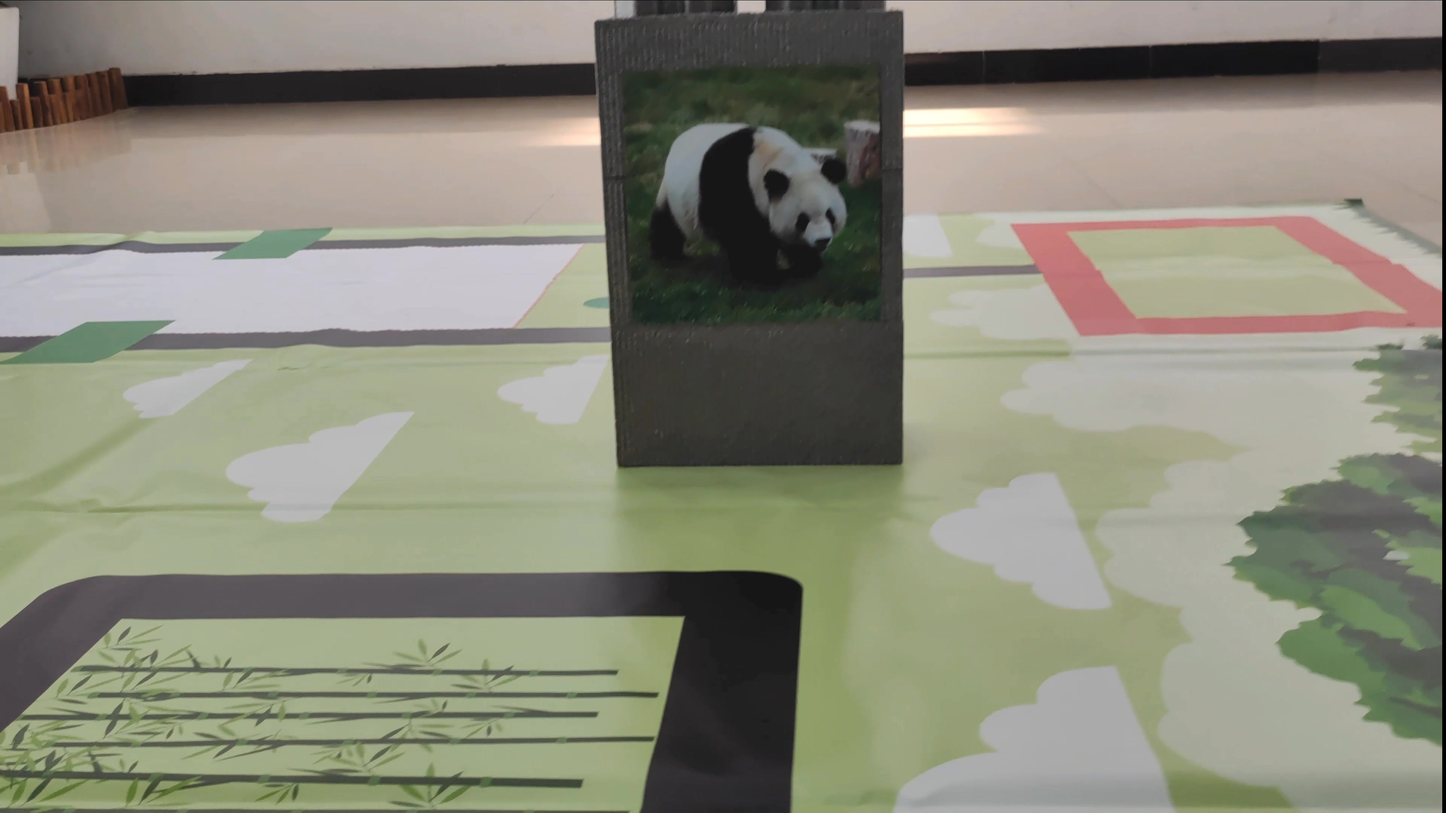panda: (641, 104, 866, 321)
